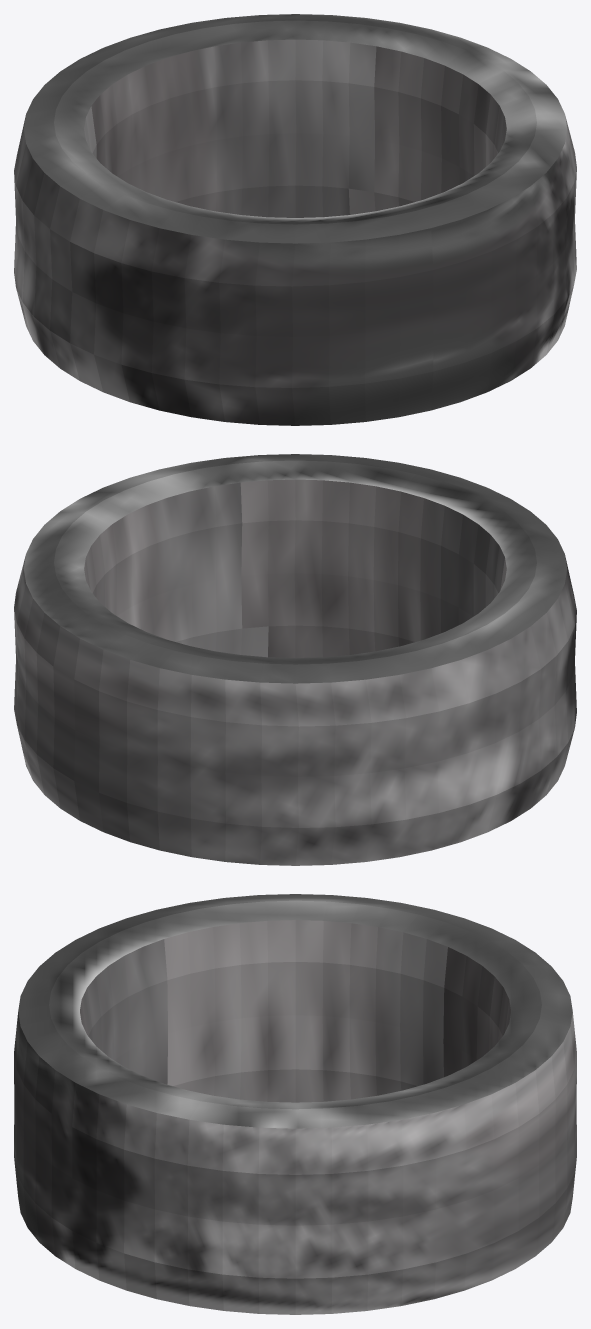
Rendered from silver_ring.glb.
3 views of the same model, one above another, from view 1: azimuth 30°, elevation 25°; view 2: azimuth 150°, elevation 25°; view 3: azimuth 270°, elevation 25° (orthographic). The views are drawn at different scales.
Parts seen in each view (by area): view 1: Torus; view 2: Torus; view 3: Torus.
Boxes of the visible parts, x1,y1,x2,y2 form: Torus: (14,14,576,425); Torus: (14,454,576,865); Torus: (14,894,576,1314).
Size of the model in its own units: 0.8325 by 0.3224 by 0.8093.
1 material, 1 textured.
